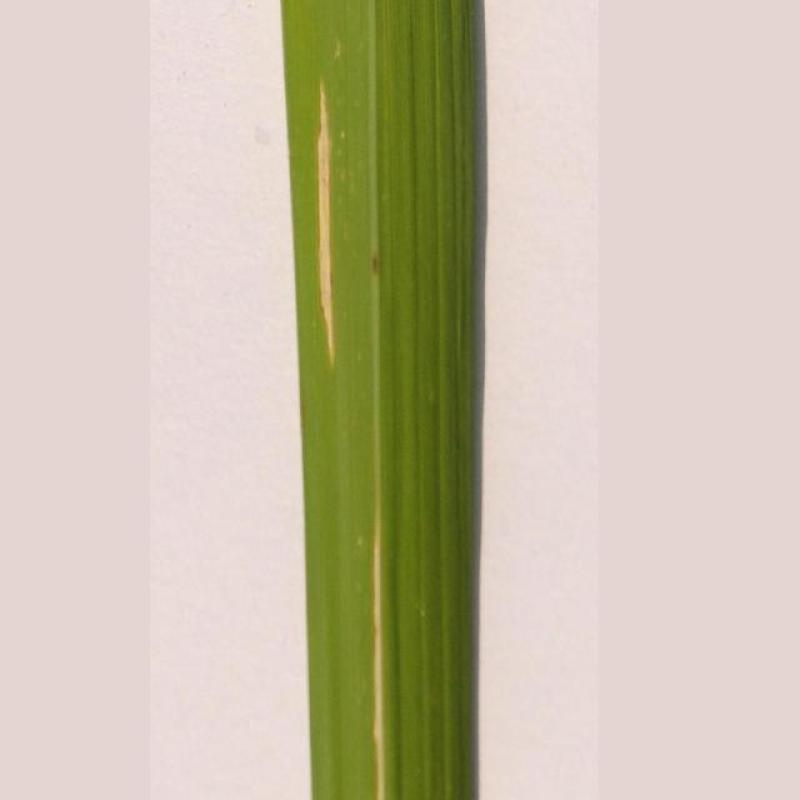Bacterial_Leaf_Blight: (299, 100, 371, 358), (354, 492, 406, 800)
